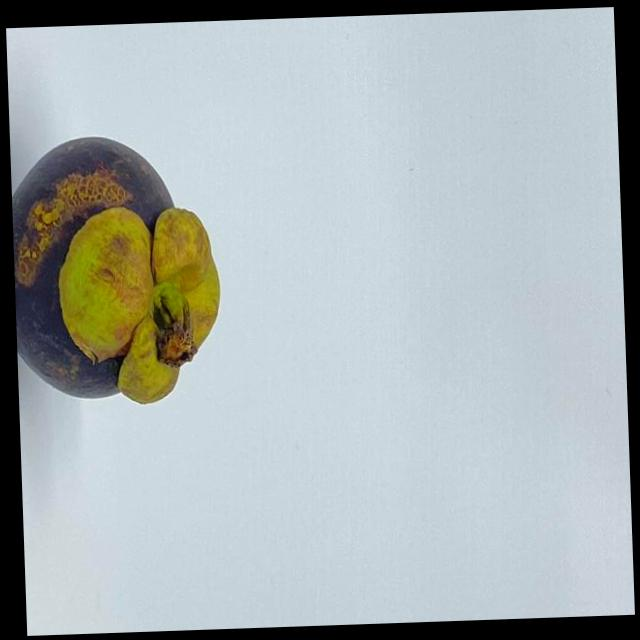mangosteen: (8, 95, 270, 396)
